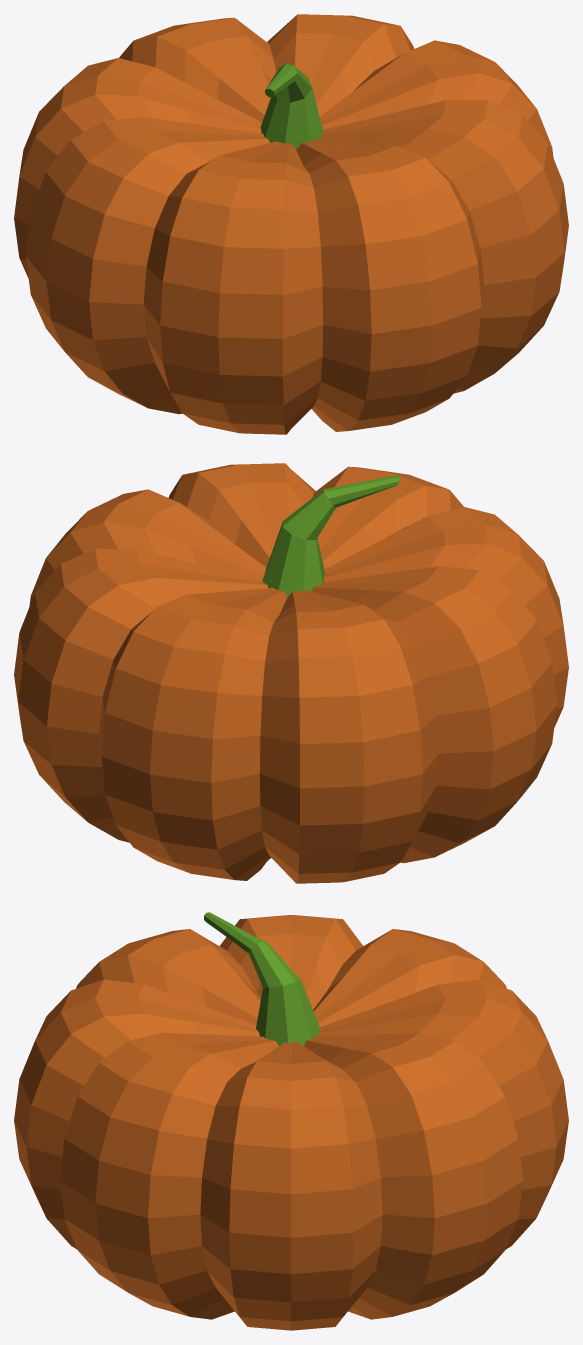
File: pumpkin.fbx
The picture shows the model from 3 angles, top to bottom: view 1: azimuth 30°, elevation 25°; view 2: azimuth 150°, elevation 25°; view 3: azimuth 270°, elevation 25°; orthographic projection.
Visible parts, largest first — view 1: Sphere, Circle; view 2: Sphere, Circle; view 3: Sphere, Circle.
Part boxes in pixels (box(x1,y1,x2,y2)): Sphere: box(14, 14, 568, 434); Circle: box(260, 63, 323, 149); Sphere: box(14, 463, 568, 883); Circle: box(262, 474, 399, 596); Sphere: box(14, 915, 568, 1330); Circle: box(204, 912, 320, 1045).
Size of the model in its own units: 100 by 65.6 by 100.
